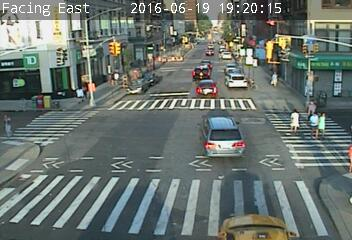neg: (119, 102, 147, 139), (164, 38, 188, 71), (169, 100, 192, 130), (293, 29, 312, 54), (192, 46, 209, 68), (258, 17, 275, 39), (218, 31, 234, 53)
pos: (304, 110, 326, 139), (286, 106, 305, 131), (70, 82, 86, 103), (268, 68, 283, 88), (107, 68, 120, 85)
